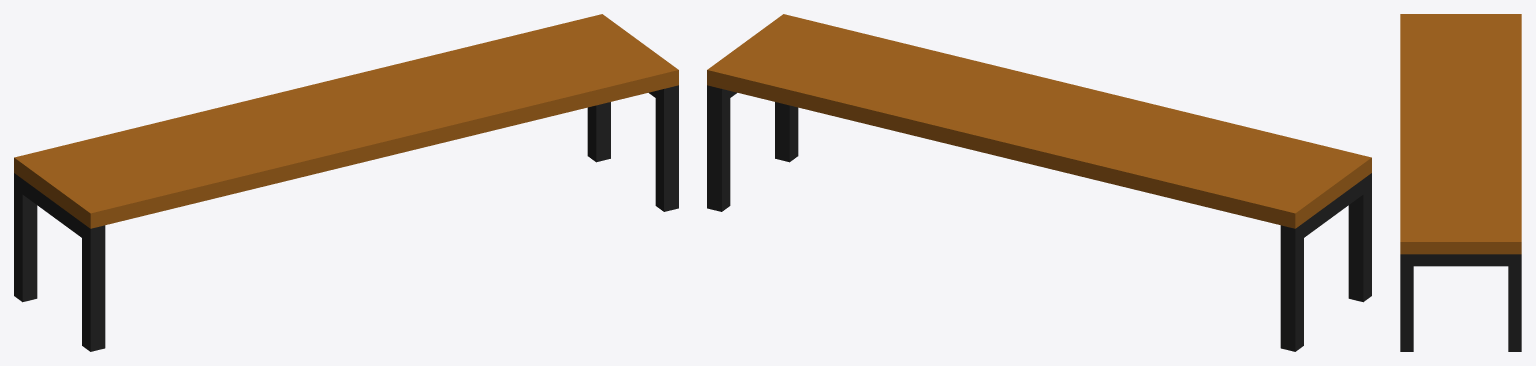
The model's file is table-2.obj.
3 views of the same model, side by side, from view 1: azimuth 30°, elevation 25°; view 2: azimuth 150°, elevation 25°; view 3: azimuth 270°, elevation 25° (orthographic). The views are drawn at different scales.
Size of the model in its own units: 4 by 0.9 by 0.9.
1 material, 1 textured.
